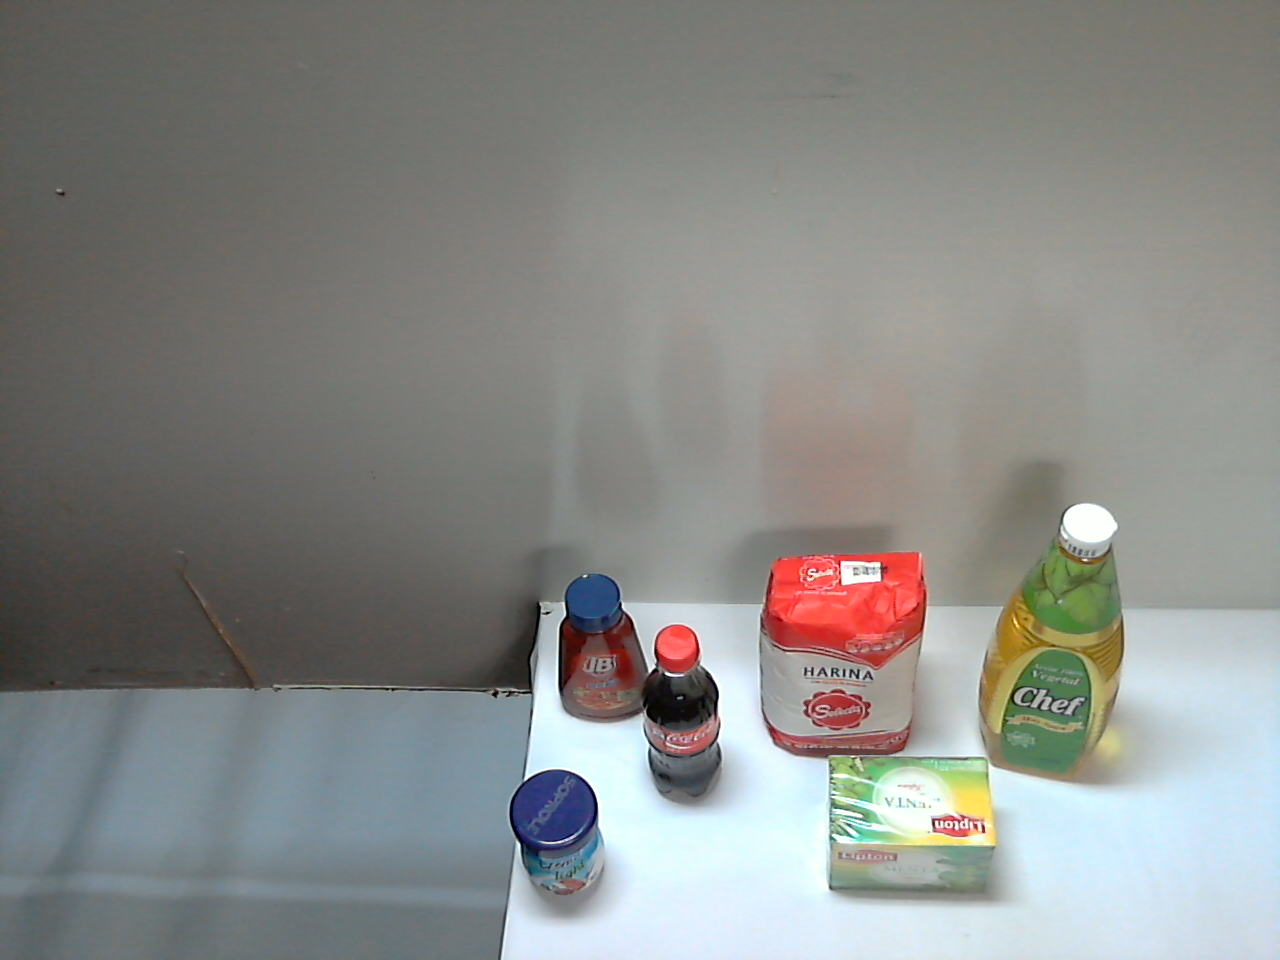aceite: (792, 436, 957, 746)
coca: (707, 609, 801, 807)
crema: (517, 688, 613, 819)
harina: (561, 507, 744, 728)
ketchup: (885, 639, 1016, 816)
te: (1001, 595, 1186, 761)
